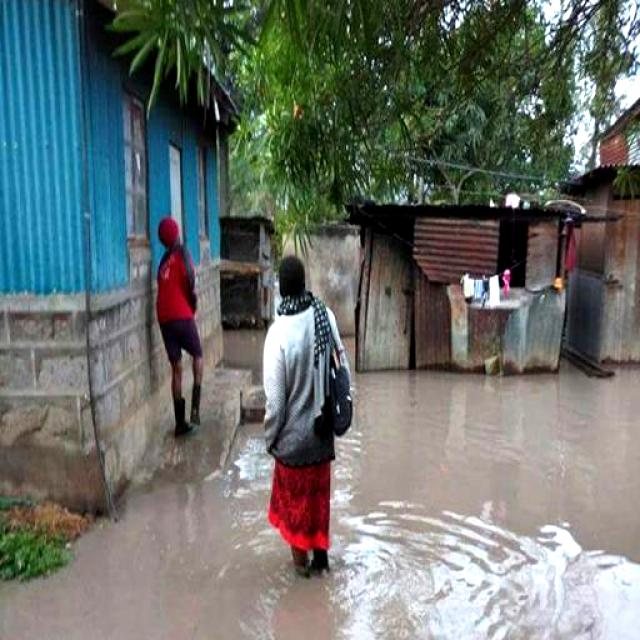civilian: (245, 235, 373, 604), (132, 198, 220, 467)
